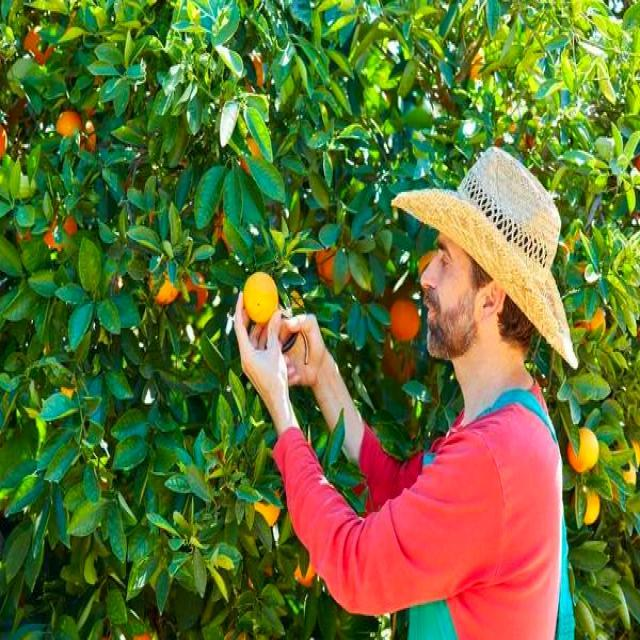Jeruk Sudah Matang: (243, 274, 280, 324), (570, 428, 598, 471), (390, 300, 420, 340), (250, 486, 278, 528), (45, 216, 78, 251), (24, 27, 54, 64), (572, 488, 600, 526), (387, 339, 415, 376), (579, 304, 606, 341), (182, 272, 208, 310), (316, 250, 342, 286), (57, 112, 81, 149), (243, 52, 265, 90), (152, 272, 177, 304), (464, 44, 486, 78), (238, 140, 260, 170), (212, 218, 230, 245), (82, 118, 96, 152), (294, 560, 312, 586), (417, 252, 436, 270), (0, 125, 9, 160), (222, 629, 248, 640), (128, 633, 154, 640)
